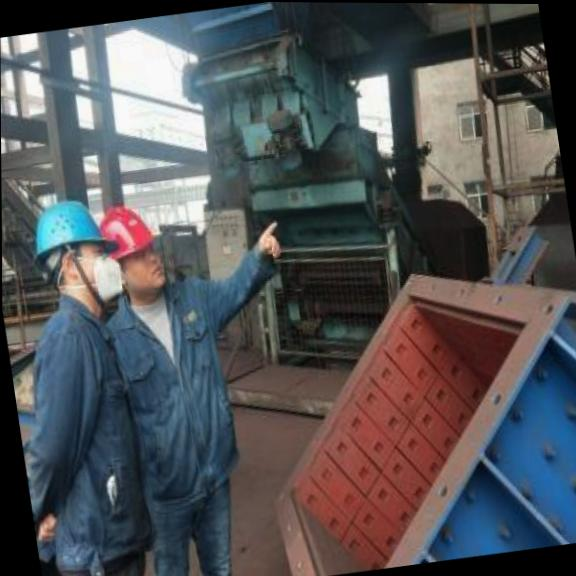no_safety_vest: (2, 290, 154, 550), (113, 272, 249, 495)
